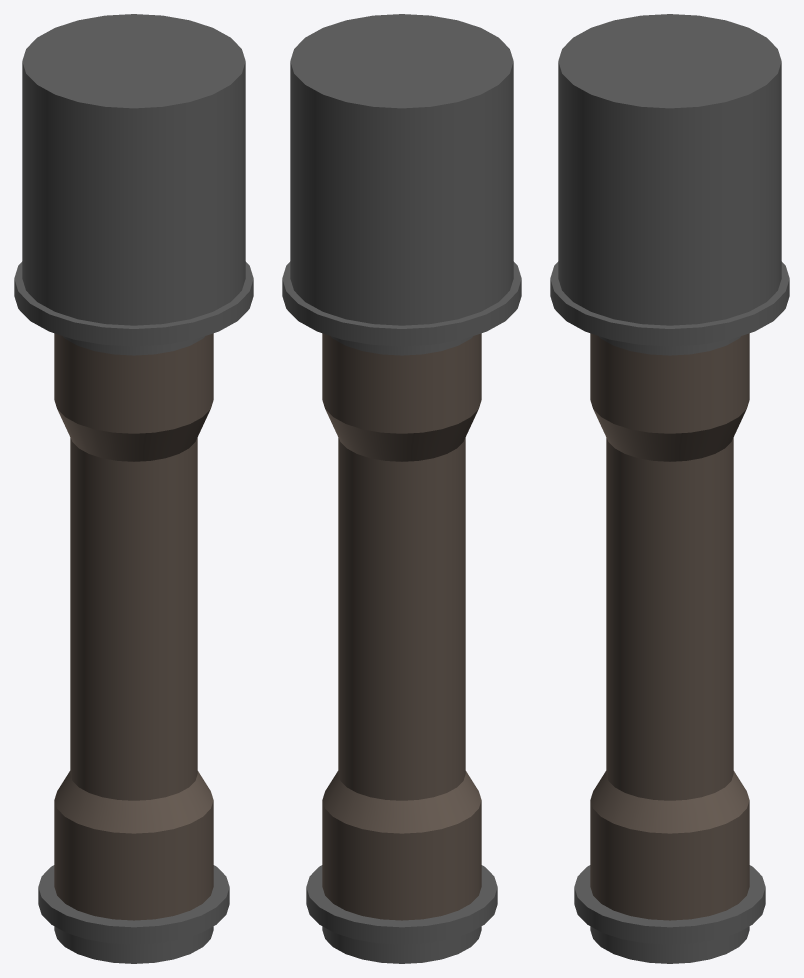
File: grenade_vintage.fbx
3 renders of one model, left to right at view 1: azimuth 30°, elevation 25°; view 2: azimuth 150°, elevation 25°; view 3: azimuth 270°, elevation 25°, orthographic.
Visible parts, largest first — view 1: Mesh1_Group1 Model; view 2: Mesh1_Group1 Model; view 3: Mesh1_Group1 Model.
Part boxes in pixels (x1=…): Mesh1_Group1 Model: x1=14, y1=14, x2=253, y2=963; Mesh1_Group1 Model: x1=282, y1=14, x2=521, y2=963; Mesh1_Group1 Model: x1=550, y1=14, x2=789, y2=963.
Size of the model in its own units: 0.015 by 0.06 by 0.015.
